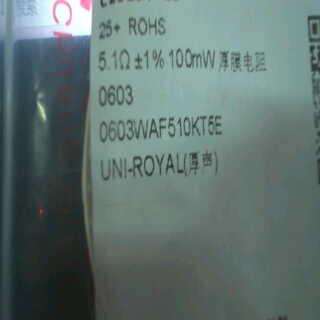5.1R: (94, 45, 134, 78)
